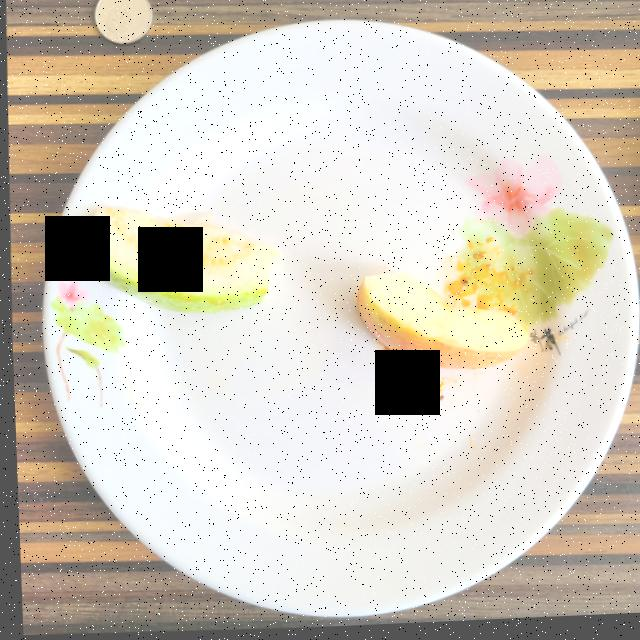apple -sliced-: (354, 276, 526, 373)
coin: (94, 0, 152, 45)
guava -sliced-: (78, 207, 277, 314)
